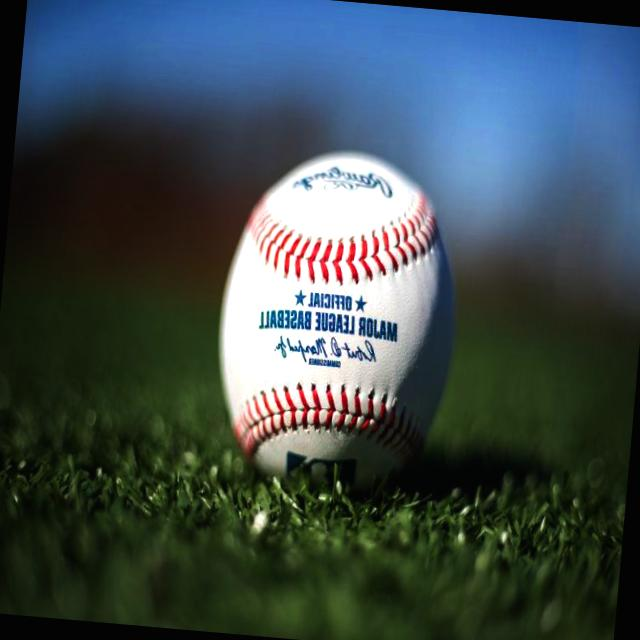ball: (202, 137, 475, 504)
